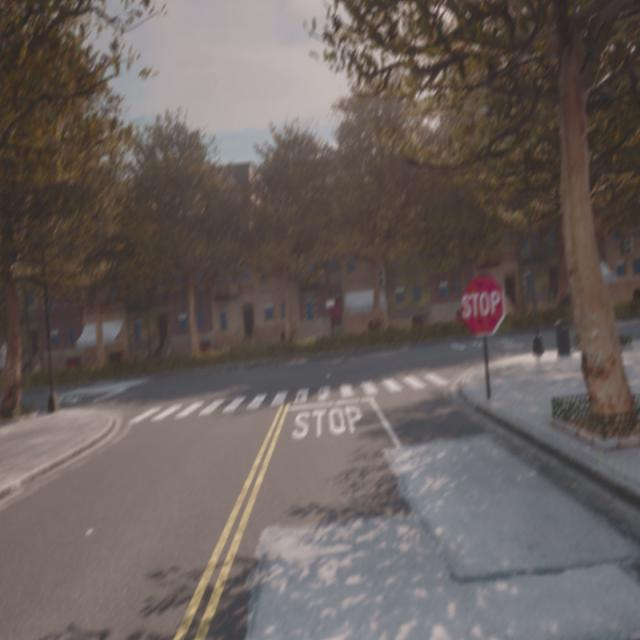stop sign: (456, 270, 507, 338), (461, 288, 502, 320)
